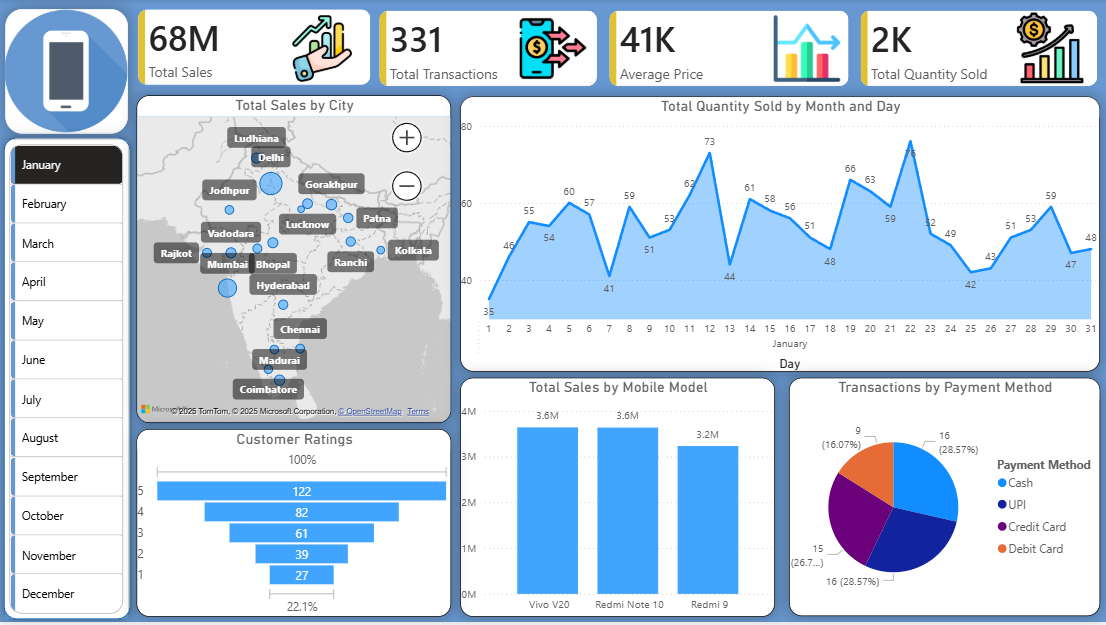

Layout of this report page (visuals, bound fields, positions):
{"tool":"powerbi","page":{"name":"Page 1","canvas":[1280,720],"ordinal":0},"visuals":[{"type":"shape","box":[7.2,11.5,141.4,144.3],"z":0},{"type":"image","box":[0,11.5,154.4,144.3],"z":1000},{"type":"shape","box":[1.4,155.8,154.4,564.1],"z":2000},{"type":"advancedSlicerVisual","fields":{"Values":["Sales_Data.Date.Variation.Date Hierarchy.Month"]},"box":[7.2,163,141.4,552.6],"z":3000},{"type":"cardVisual","fields":{"Data":["Sales_Data.Total Sales"]},"box":[148.6,0,292.9,111.1],"z":4000},{"type":"cardVisual","fields":{"Data":["Sales_Data.Total Transactions"]},"box":[427.1,1.4,275.6,111.1],"z":5000},{"type":"cardVisual","fields":{"Data":["Sales_Data.Average Price"]},"box":[692.5,1.4,300.1,111.1],"z":6000},{"type":"cardVisual","fields":{"Data":["Sales_Data.Total Quantity Sold"]},"box":[982.5,1.4,297.2,111.1],"z":7000},{"type":"map","fields":{"Category":["Sales_Data.City"],"Size":["Sales_Data.Total Sales"]},"box":[158.7,111.1,363.6,378],"z":8000},{"type":"lineChart","fields":{"Category":["Sales_Data.Date.Variation.Date Hierarchy.Month","Sales_Data.Date.Variation.Date Hierarchy.Day"],"Y":["Sales_Data.Total Quantity Sold"]},"box":[532.4,112.5,738.7,317.4],"z":9000},{"type":"clusteredColumnChart","fields":{"Category":["Sales_Data.Mobile Model"],"Y":["Sales_Data.Total Sales"]},"box":[532.2,437.8,363.1,275.9],"z":10000},{"type":"pieChart","title":"Transactions by Payment Method","fields":{"Y":["Sales_Data.Total Transactions"],"Category":["Sales_Data.Payment Method"]},"box":[911.8,437.2,359.2,275.6],"z":11000},{"type":"funnel","title":"Customer Ratings","fields":{"Y":["CountNonNull(Sales_Data.Customer Ratings)"],"Category":["Sales_Data.Customer Ratings"]},"box":[158.7,496.3,363.6,216.4],"z":12000},{"type":"image","box":[318.9,18.8,108.2,76.5],"z":12001},{"type":"image","box":[585.8,18.8,106.8,76.5],"z":12002},{"type":"image","box":[883,18.8,99.6,76.5],"z":12003},{"type":"image","box":[1155.7,14.4,115.4,83.7],"z":12004}]}

Visuals, with their boxes in screenshot pixels (x1, y1, x2, y2), scaled from the page's 1280x720 canvas onto the 1106x625 screenshot:
shape: {"left": 6, "top": 10, "right": 128, "bottom": 135}
image: {"left": 0, "top": 10, "right": 133, "bottom": 135}
shape: {"left": 1, "top": 135, "right": 135, "bottom": 624}
advancedSlicerVisual - Sales_Data.Date.Variation.Date Hierarchy.Month: {"left": 6, "top": 141, "right": 128, "bottom": 621}
cardVisual - Sales_Data.Total Sales: {"left": 128, "top": 0, "right": 381, "bottom": 96}
cardVisual - Sales_Data.Total Transactions: {"left": 369, "top": 1, "right": 607, "bottom": 98}
cardVisual - Sales_Data.Average Price: {"left": 598, "top": 1, "right": 858, "bottom": 98}
cardVisual - Sales_Data.Total Quantity Sold: {"left": 849, "top": 1, "right": 1105, "bottom": 98}
map - Sales_Data.City x Sales_Data.Total Sales: {"left": 137, "top": 96, "right": 451, "bottom": 425}
lineChart - Sales_Data.Date.Variation.Date Hierarchy.Month x Sales_Data.Date.Variation.Date Hierarchy.Day: {"left": 460, "top": 98, "right": 1098, "bottom": 373}
clusteredColumnChart - Sales_Data.Mobile Model x Sales_Data.Total Sales: {"left": 460, "top": 380, "right": 774, "bottom": 620}
"Transactions by Payment Method" pieChart: {"left": 788, "top": 380, "right": 1098, "bottom": 619}
"Customer Ratings" funnel: {"left": 137, "top": 431, "right": 451, "bottom": 619}
image: {"left": 276, "top": 16, "right": 369, "bottom": 83}
image: {"left": 506, "top": 16, "right": 598, "bottom": 83}
image: {"left": 763, "top": 16, "right": 849, "bottom": 83}
image: {"left": 999, "top": 12, "right": 1098, "bottom": 85}
